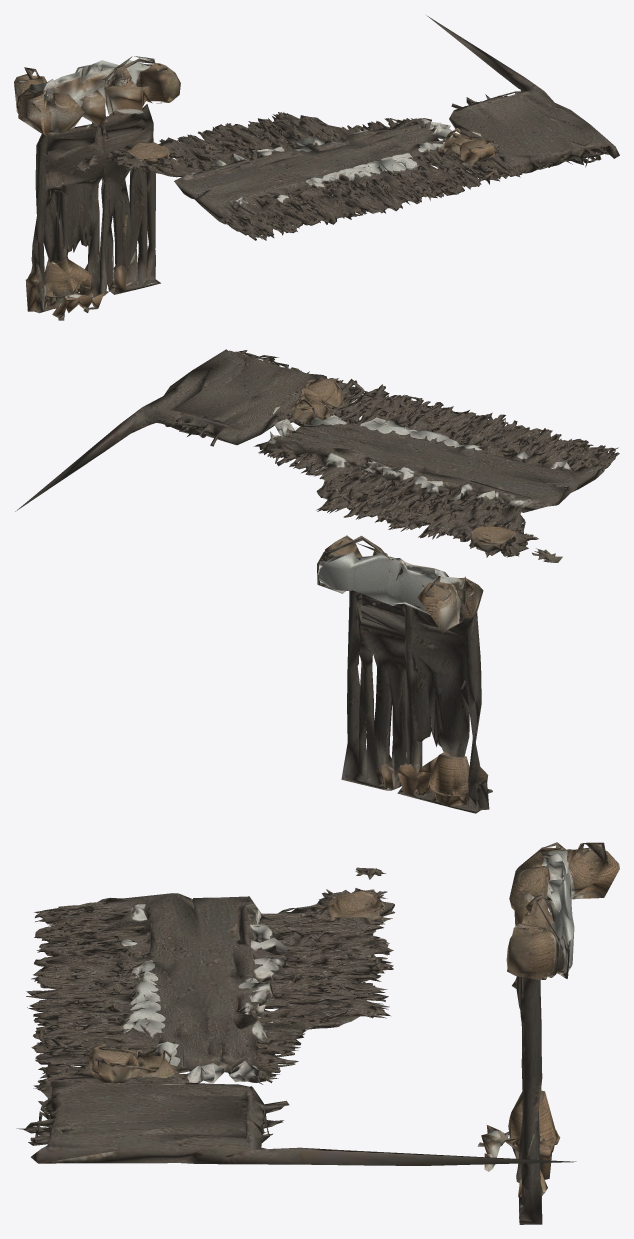
File: baumwollplantage.glb
The picture shows the model from 3 angles, top to bottom: view 1: azimuth 30°, elevation 25°; view 2: azimuth 150°, elevation 25°; view 3: azimuth 270°, elevation 25°; orthographic projection. The views are drawn at different scales.
Size of the model in its own units: 1.92 by 0.9758 by 1.7.
1 material, 1 textured.
